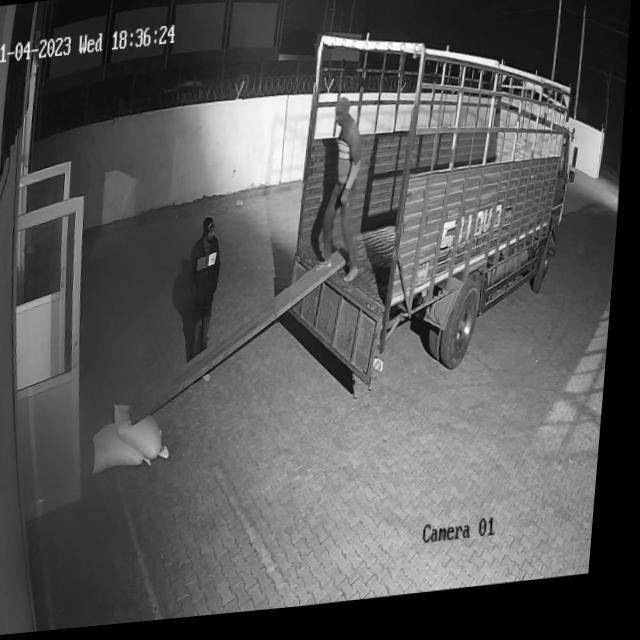sack: (116, 399, 181, 467), (96, 422, 163, 477)
